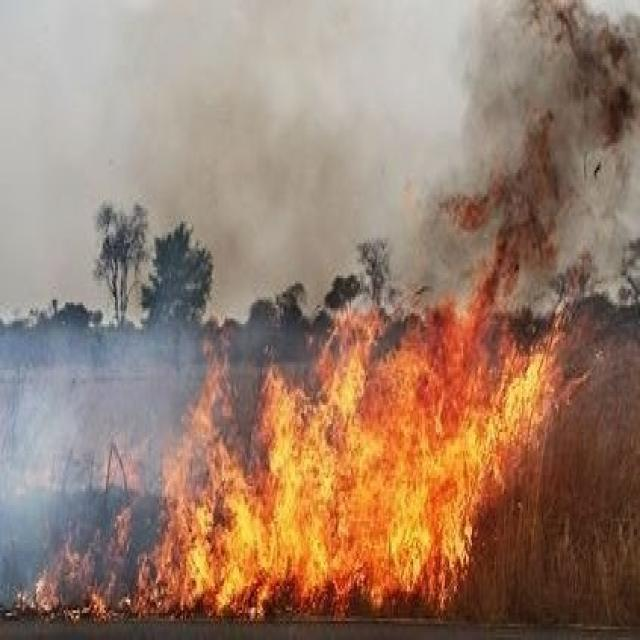Fire: (149, 282, 563, 608)
Smoke: (178, 5, 640, 361), (0, 178, 191, 546)
